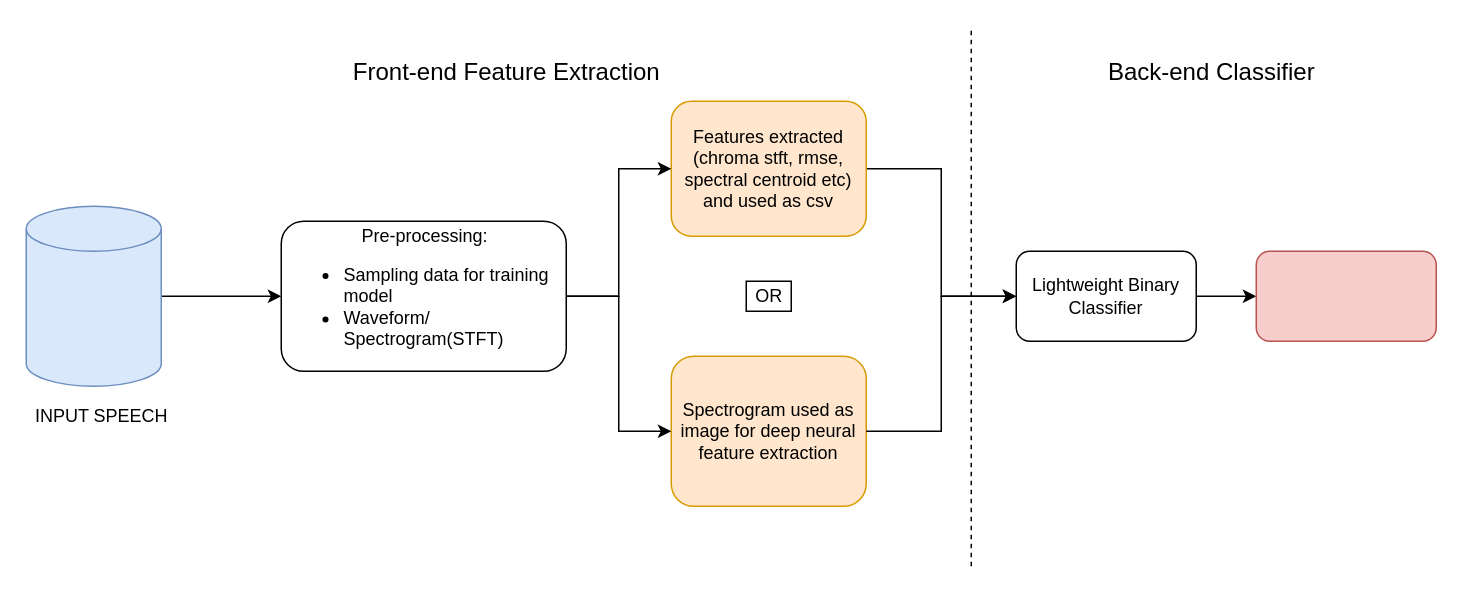
The diagram is 1463 pixels wide and 594 high, and some of its shapes have lost their labels. Each missing label, with the centre of its shape:
AUDIO DATASET / REAL-WORLD AUDIO DATA: (93,295)
Prediction: (1345,295)
